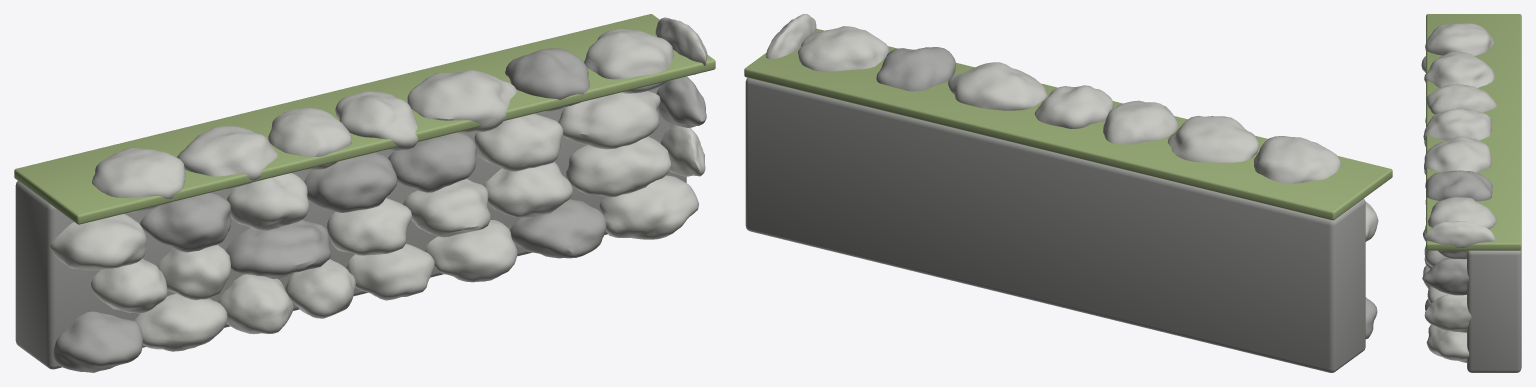
The model's file is ishigaki.glb.
3 renders of one model, left to right at view 1: azimuth 30°, elevation 25°; view 2: azimuth 150°, elevation 25°; view 3: azimuth 270°, elevation 25°, orthographic. The views are drawn at different scales.
Parts seen in each view (by area): view 1: ishigaki; view 2: ishigaki; view 3: ishigaki.
Boxes of the visible parts, x1,y1,x2,y2 form: ishigaki: (14,14,715,372); ishigaki: (744,14,1392,372); ishigaki: (1421,14,1521,372).
Bounding box in the file's own units: 4.01 × 1.22 × 0.7344.
